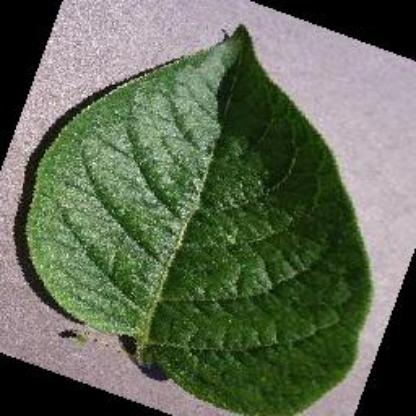Healthy-plant: (19, 19, 377, 415)
